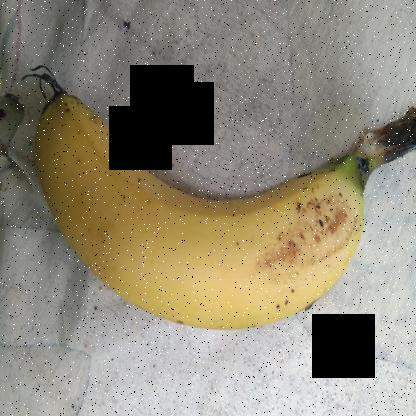freshripe: (28, 78, 371, 343)
